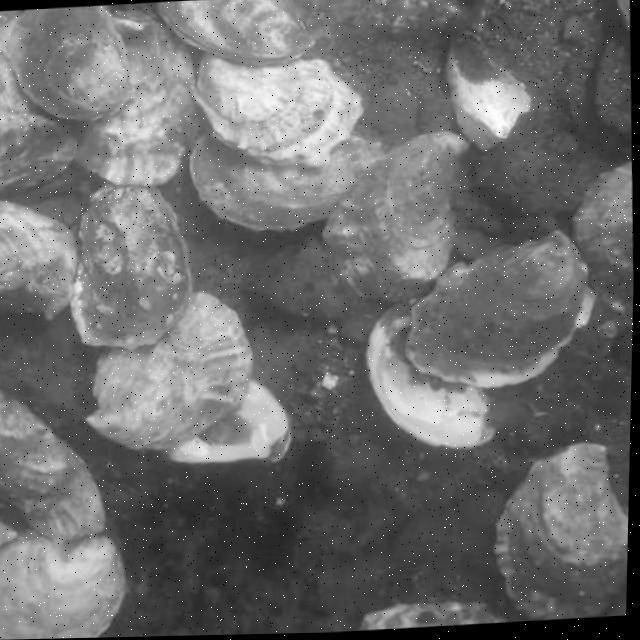Oyster-Indeterminate: (407, 230, 596, 385), (87, 290, 253, 450), (323, 131, 469, 303), (66, 8, 205, 186), (494, 442, 628, 619), (191, 122, 386, 230), (68, 184, 191, 347), (193, 52, 360, 166), (0, 390, 106, 540), (8, 5, 133, 121), (0, 529, 124, 640), (158, 0, 316, 65), (0, 200, 78, 318), (572, 162, 633, 310), (0, 110, 78, 199), (356, 601, 504, 630)
